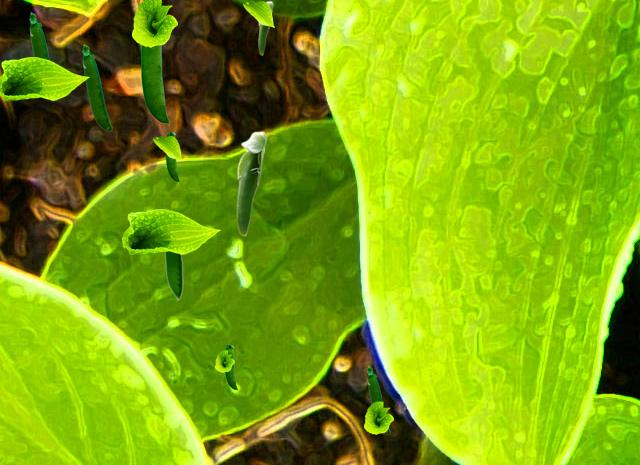pea: (236, 131, 266, 235), (82, 44, 111, 130), (141, 46, 168, 124), (367, 366, 389, 433), (29, 12, 50, 59), (164, 252, 182, 301), (258, 1, 272, 54), (166, 132, 178, 181), (225, 345, 236, 389)
